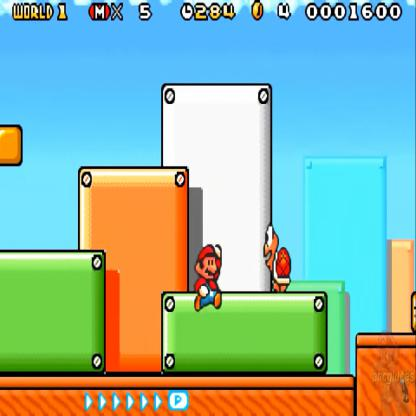Mario: (192, 244, 226, 320)
koopa: (260, 226, 294, 294)
moneda: (252, 0, 263, 25)
